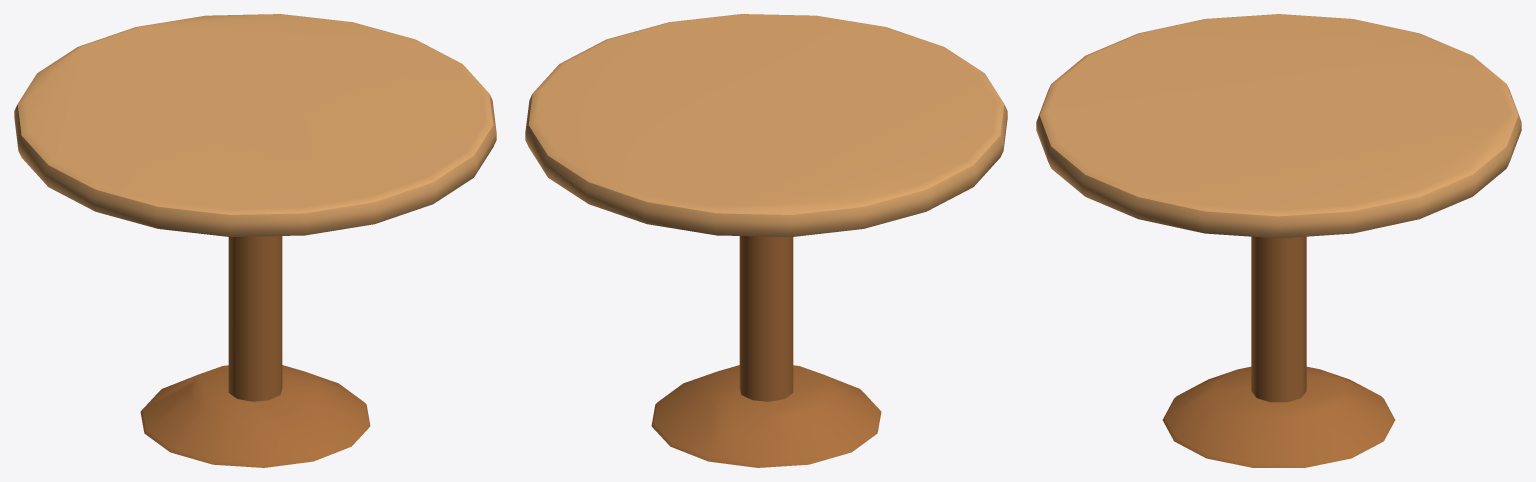
File: RoundTable.fbx
3 views of the same model, side by side, from view 1: azimuth 30°, elevation 25°; view 2: azimuth 150°, elevation 25°; view 3: azimuth 270°, elevation 25° (orthographic).
Visible parts, largest first — view 1: RoundTable; view 2: RoundTable; view 3: RoundTable.
Part boxes in pixels (x1=…): RoundTable: x1=14, y1=14, x2=496, y2=467; RoundTable: x1=525, y1=14, x2=1007, y2=467; RoundTable: x1=1036, y1=14, x2=1521, y2=467.
Bounding box in the file's own units: 4.4 × 3.09 × 4.4.
1 material, 1 textured.
